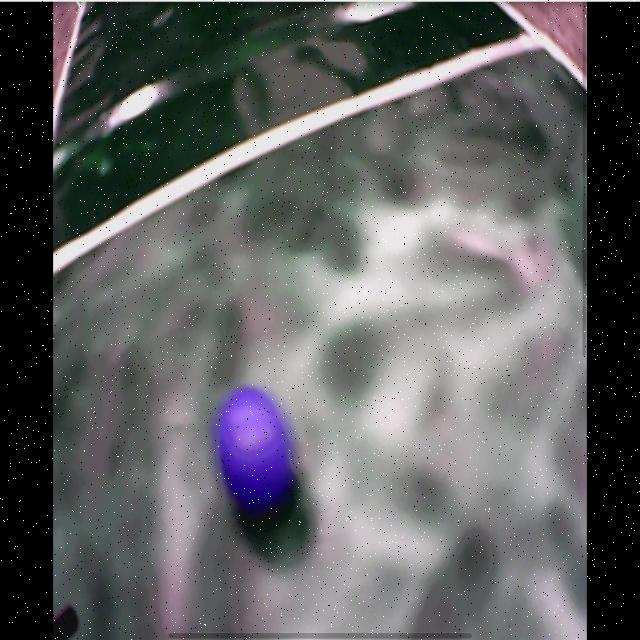ball: (222, 389, 289, 511)
